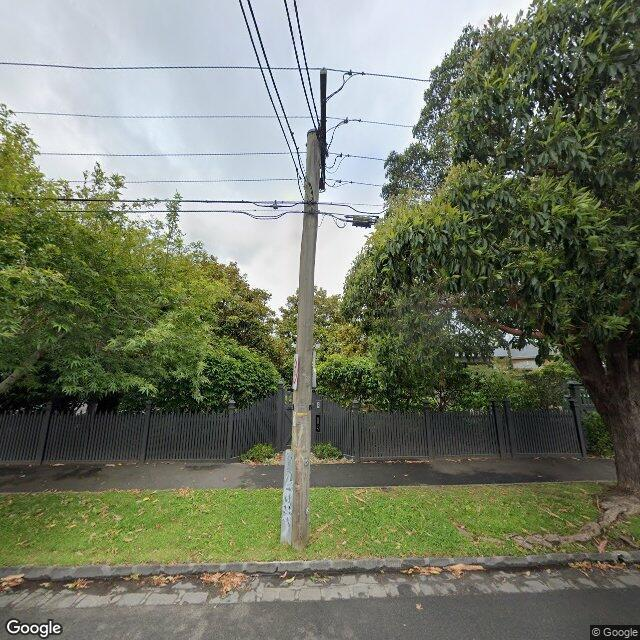crossarm: (320, 66, 365, 190)
timber-pole: (287, 128, 324, 547)
